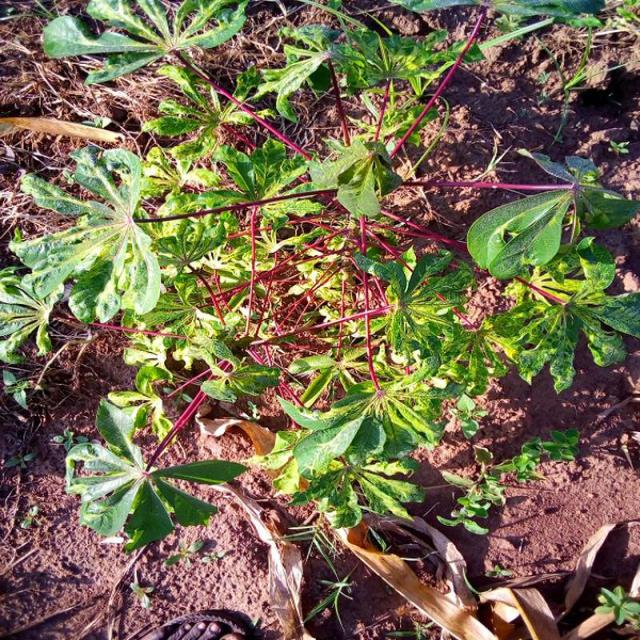cassava leaf: (63, 394, 248, 552), (9, 142, 162, 324), (466, 187, 572, 280)
